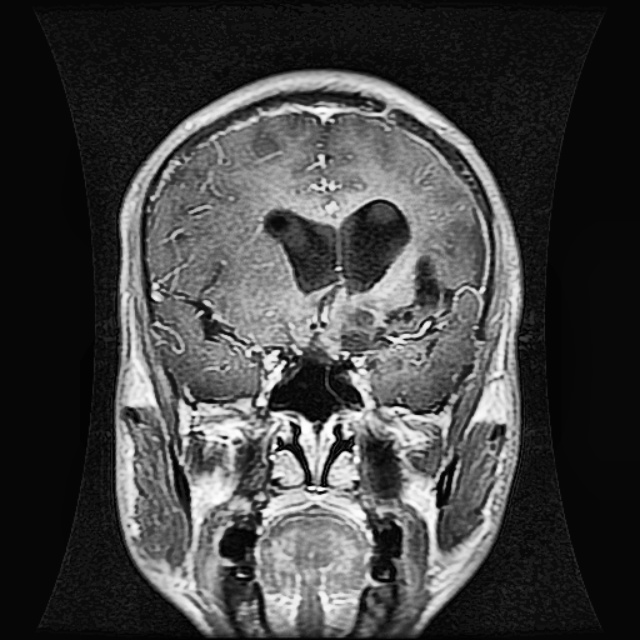Meningioma: (338, 254, 485, 358)
